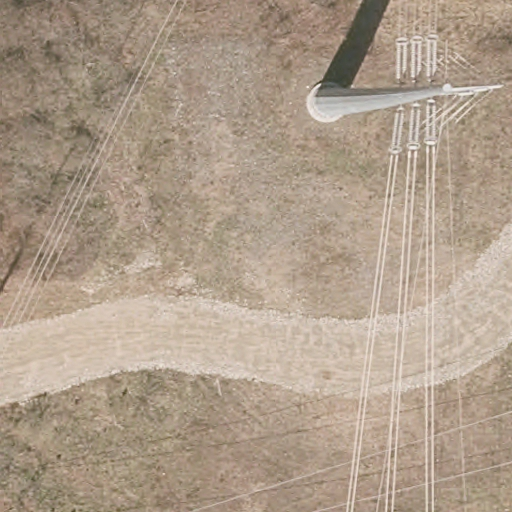TT: (307, 34, 504, 153)
